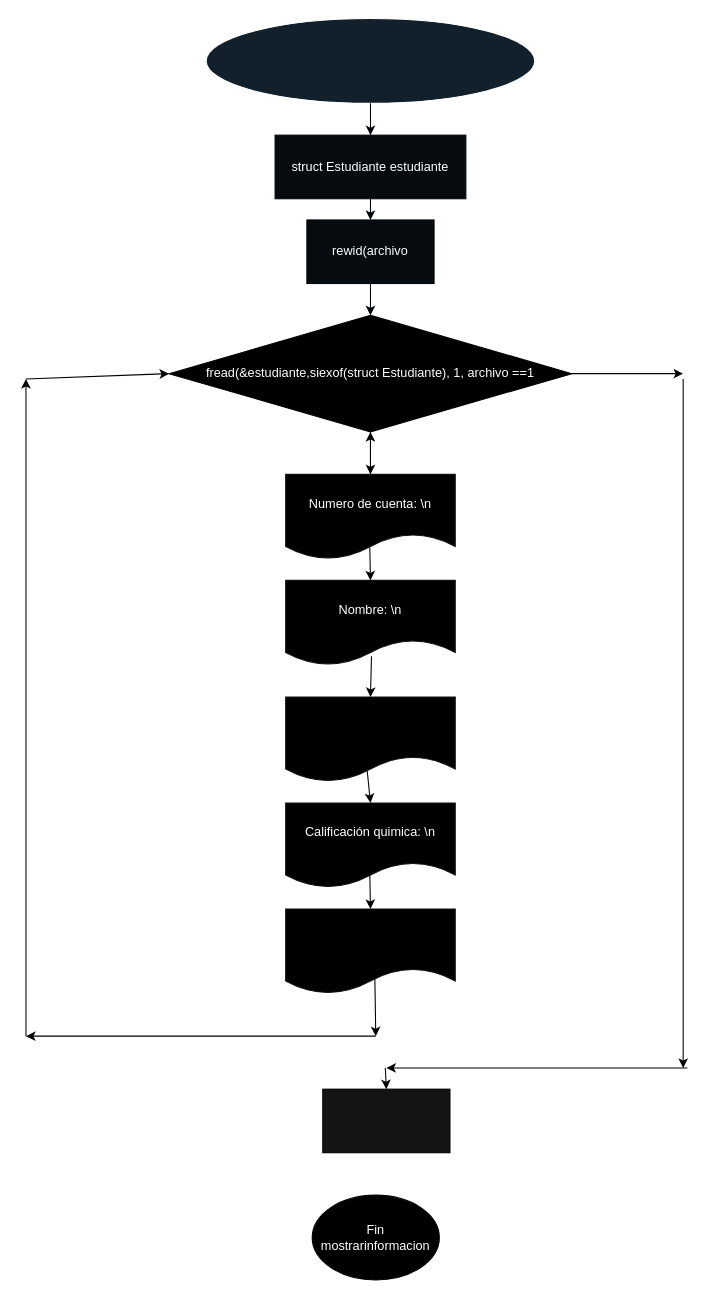
The diagram is 714 pixels wide and 1298 high, and some of its shapes have lost their labels. Each missing label, with the box of its shape:
Calificaciones literatura: \n: (285, 696, 455, 782)
Calificación matematicas: \n: (285, 908, 455, 994)
Inicio mostrar información del estudiante (FILE*archivo ): (205, 17, 535, 103)
System("cls");: (322, 1088, 450, 1153)
